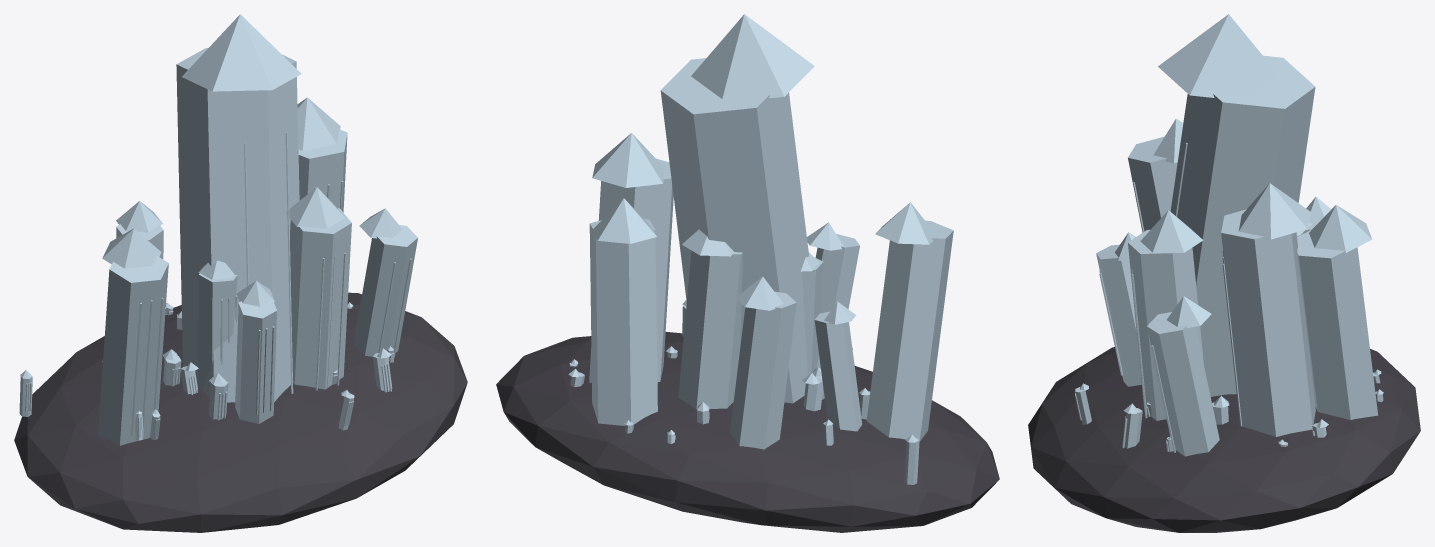
Rendered from quartz.glb.
The picture shows the model from 3 angles, left to right: view 1: azimuth 30°, elevation 25°; view 2: azimuth 150°, elevation 25°; view 3: azimuth 270°, elevation 25°; orthographic projection. The views are drawn at different scales.
Parts seen in each view (by area): view 1: Quartz; view 2: Quartz; view 3: Quartz.
Part boxes in pixels (bbox=[...]): Quartz: bbox=[14, 14, 467, 532]; Quartz: bbox=[496, 14, 999, 532]; Quartz: bbox=[1028, 14, 1420, 532].
Size of the model in its own units: 3.96 by 4.03 by 3.03.
